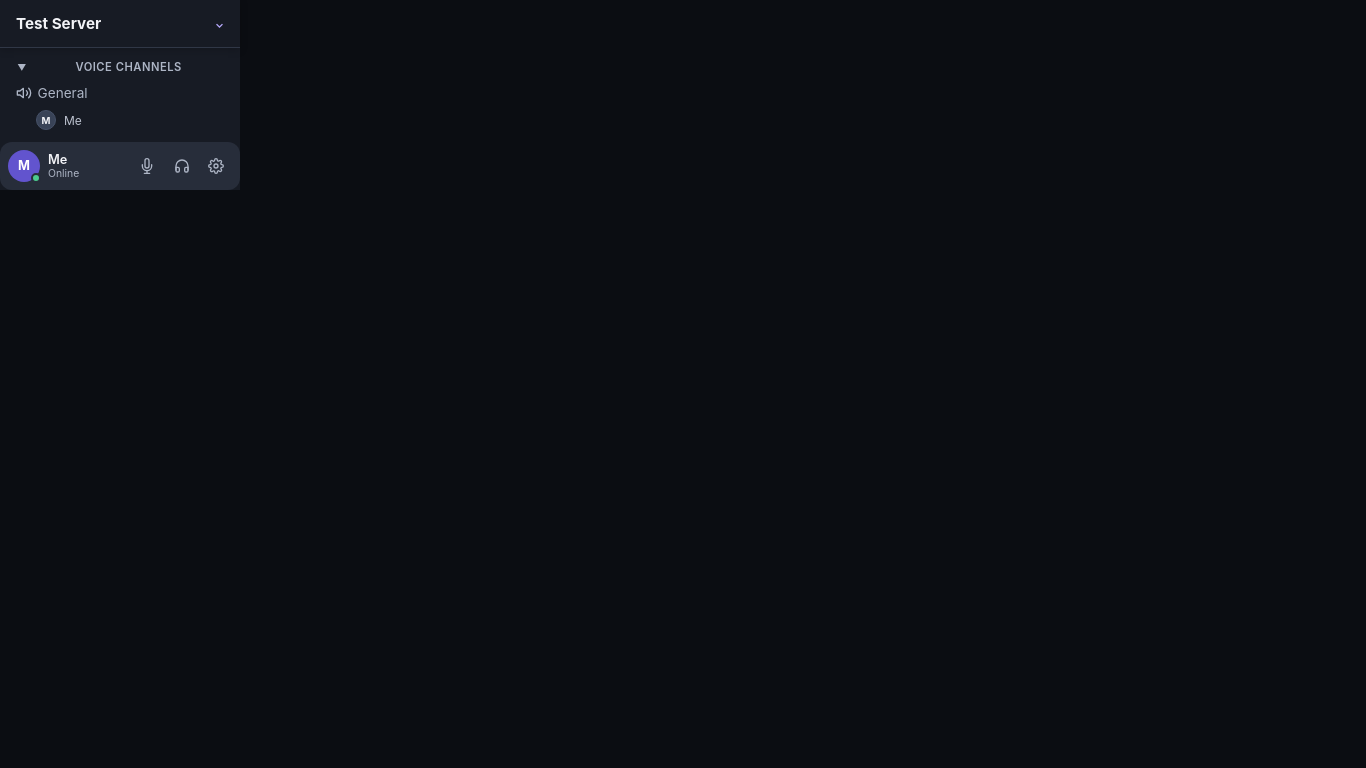
Test: Voice participant popover › F6-C2B-POPOVER-03: the self participant surface contains identity only
The width and height of the screenshot is (1366, 768).
Right-click the list item with aria-label "Me, not speaking" at (59, 120), box [36,110,82,130]
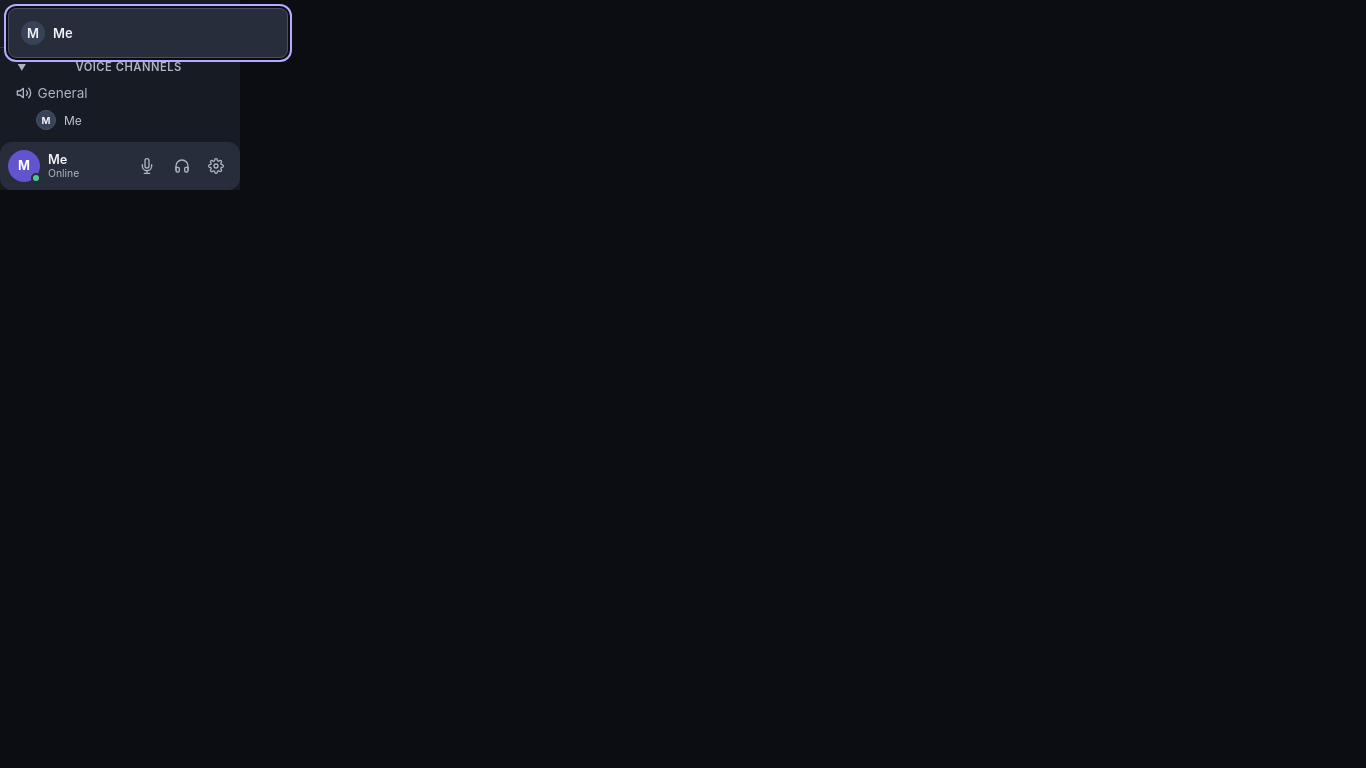
Now the dialog named "Voice participant: Me" is shown, box [8,8,288,58]
Now the text "Me" is shown, box [53,25,73,41]
